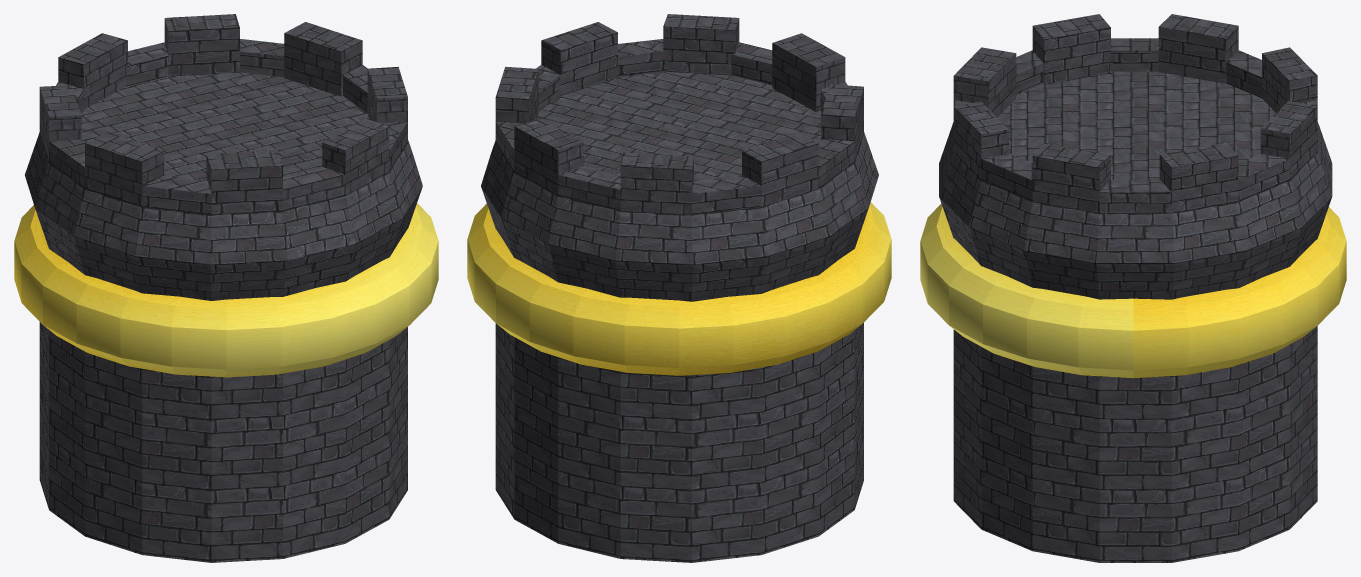
File: torregrande.fbx
The picture shows the model from 3 angles, left to right: view 1: azimuth 30°, elevation 25°; view 2: azimuth 150°, elevation 25°; view 3: azimuth 270°, elevation 25°; orthographic projection.
Visible parts, largest first — view 1: torregrande; view 2: torregrande; view 3: torregrande.
Boxes of the visible parts, bbox=[...] form: torregrande: bbox=[14, 14, 438, 562]; torregrande: bbox=[467, 14, 891, 562]; torregrande: bbox=[920, 14, 1346, 562].
Bounding box in the file's own units: 2688 × 2752 × 2688.
2 materials, 2 textured.
